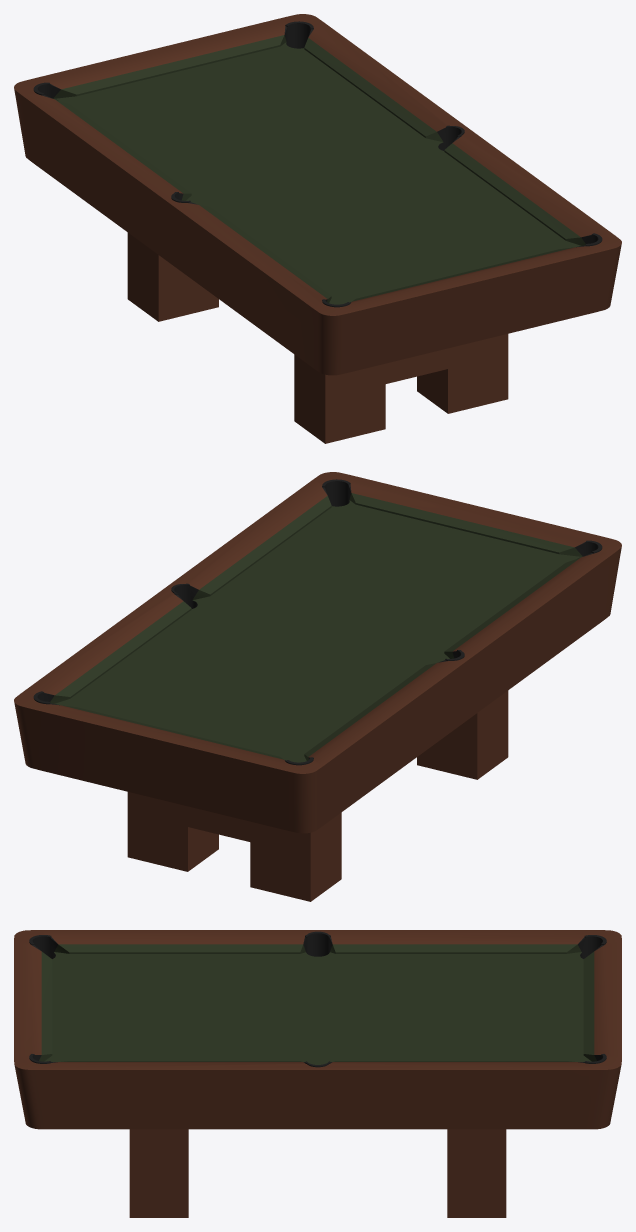
Rendered from Pool_Table_8ft.obj.
3 renders of one model, top to bottom at view 1: azimuth 30°, elevation 25°; view 2: azimuth 150°, elevation 25°; view 3: azimuth 270°, elevation 25°, orthographic. The views are drawn at different scales.
Visible parts, largest first — view 1: Cylinder_Cylinder.001; view 2: Cylinder_Cylinder.001; view 3: Cylinder_Cylinder.001.
Part boxes in pixels (x1,y1,x2,y2): Cylinder_Cylinder.001: (14,14,621,443); Cylinder_Cylinder.001: (14,472,621,901); Cylinder_Cylinder.001: (14,930,621,1217).
Size of the model in its own units: 1.41 by 0.8301 by 2.59.
